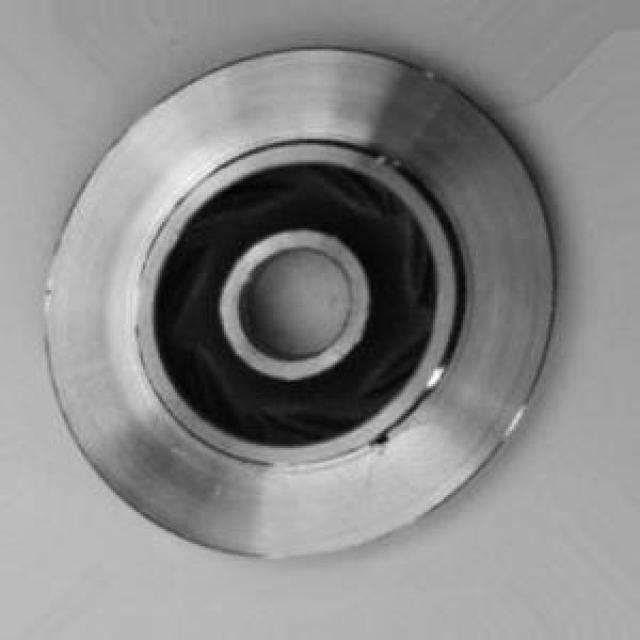Defect: (363, 428, 403, 454)
